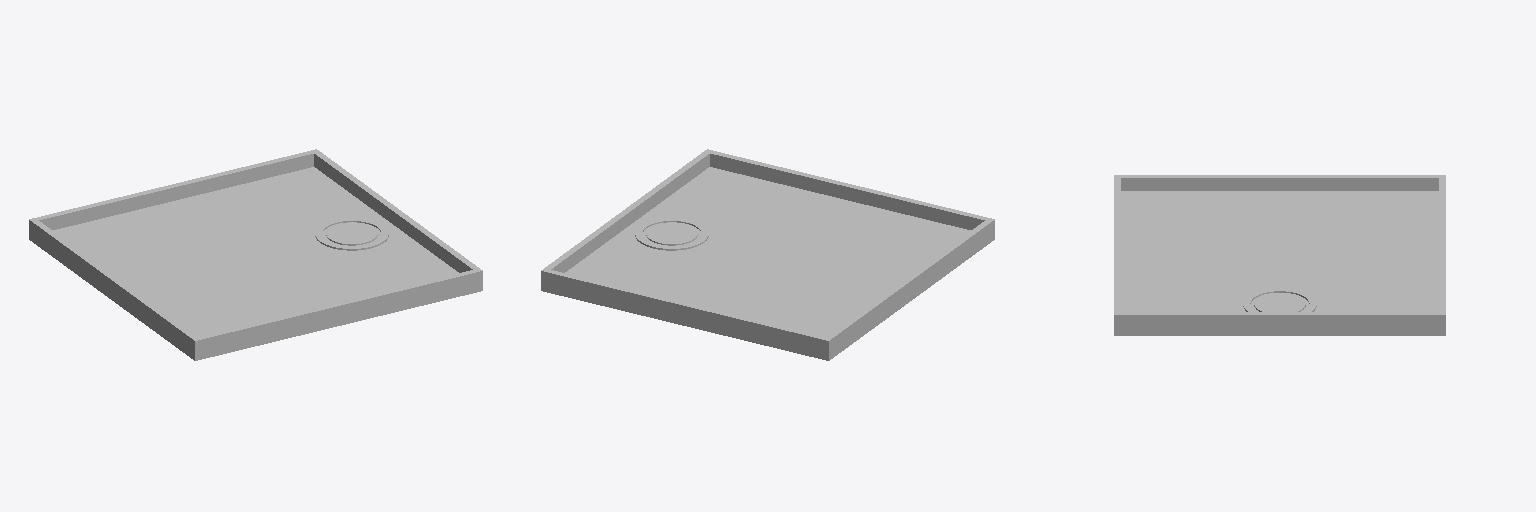
The picture shows the model from 3 angles: view 1: azimuth 30°, elevation 25°; view 2: azimuth 150°, elevation 25°; view 3: azimuth 270°, elevation 25°; orthographic projection.
Visible parts, largest first — view 1: mat, cote1, cote3, cote4, cote2, Boolean_7, Syphon; view 2: mat, cote3, cote1, cote4, cote2, Boolean_7, Syphon; view 3: mat, cote2, cote4, cote1, cote3, Syphon, Boolean_7.
Boxes of the visible parts, x1=… form: mat: x1=29, y1=167, x2=482, y2=360; cote1: x1=191, y1=268, x2=482, y2=353; cote3: x1=29, y1=149, x2=316, y2=234; cote4: x1=29, y1=218, x2=201, y2=353; cote2: x1=311, y1=150, x2=482, y2=282; Boolean_7: x1=315, y1=218, x2=388, y2=250; Syphon: x1=326, y1=222, x2=377, y2=245; mat: x1=541, y1=167, x2=994, y2=360; cote3: x1=541, y1=268, x2=832, y2=353; cote1: x1=707, y1=149, x2=994, y2=234; cote4: x1=822, y1=218, x2=994, y2=353; cote2: x1=541, y1=149, x2=711, y2=284; Boolean_7: x1=635, y1=218, x2=708, y2=250; Syphon: x1=646, y1=222, x2=697, y2=245; mat: x1=1114, y1=191, x2=1445, y2=335; cote2: x1=1114, y1=312, x2=1445, y2=328; cote4: x1=1114, y1=175, x2=1444, y2=190; cote1: x1=1114, y1=175, x2=1120, y2=328; cote3: x1=1439, y1=175, x2=1445, y2=328; Syphon: x1=1254, y1=293, x2=1305, y2=311; Boolean_7: x1=1243, y1=288, x2=1316, y2=311.
Bounding box in the file's own units: 90 × 6.5 × 90.